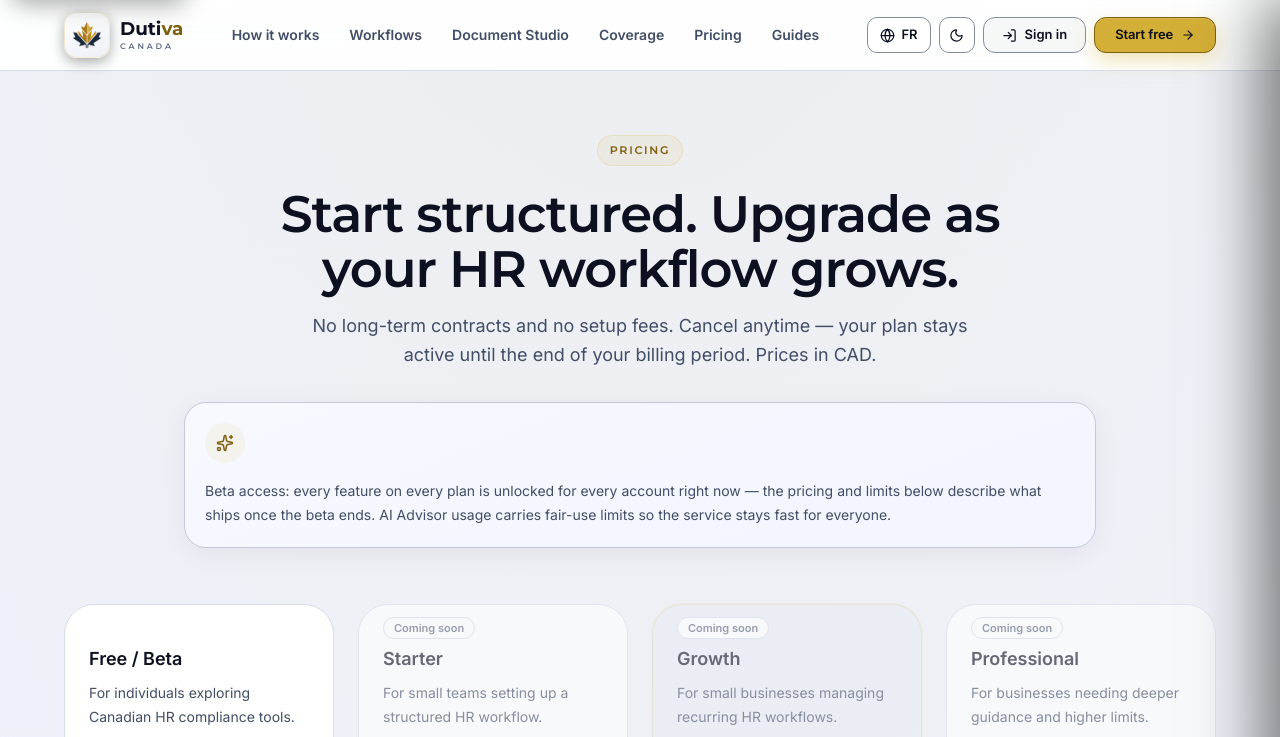
Test: PricingPage › re-localizes to French via the header language toggle
Step 1. Click the button with aria-label "Toggle language" → (899, 35), box [868,17,931,53]
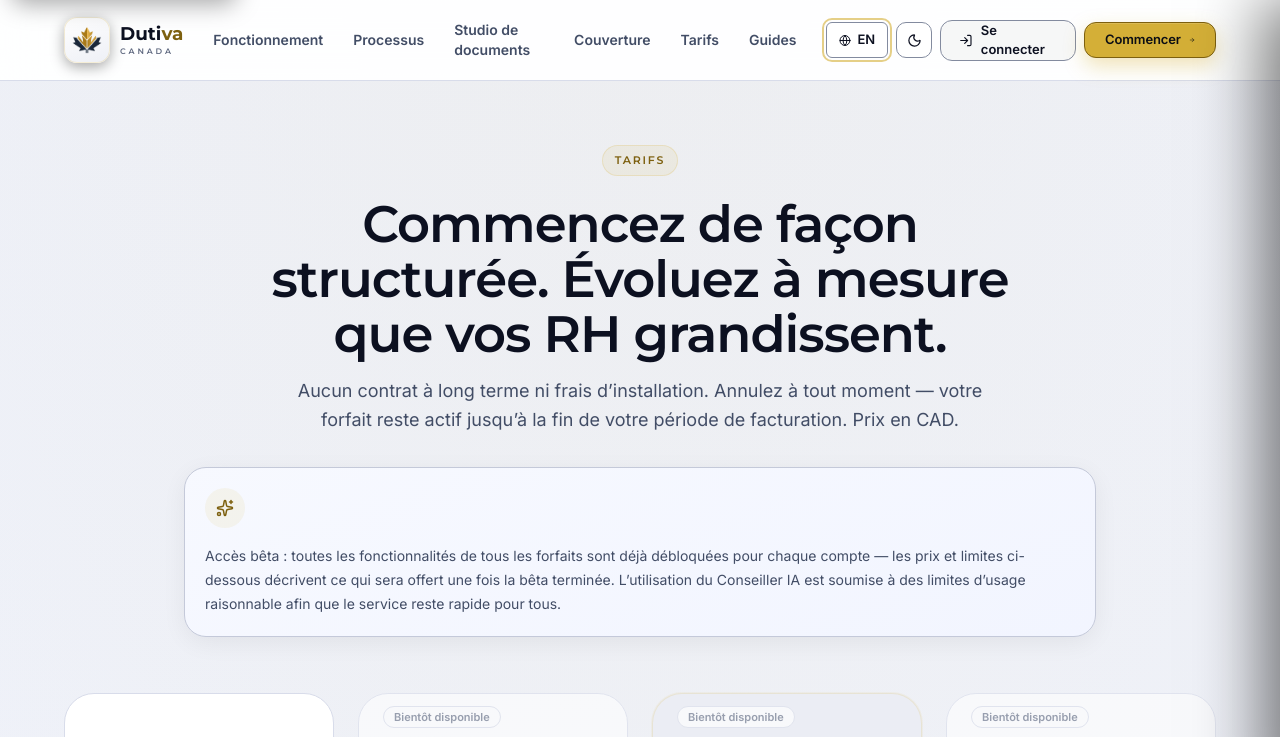
Check: the heading "Commencez de façon structurée. Évoluez à mesure que vos RH grandissent." is shown, box [244,196,1036,361]
